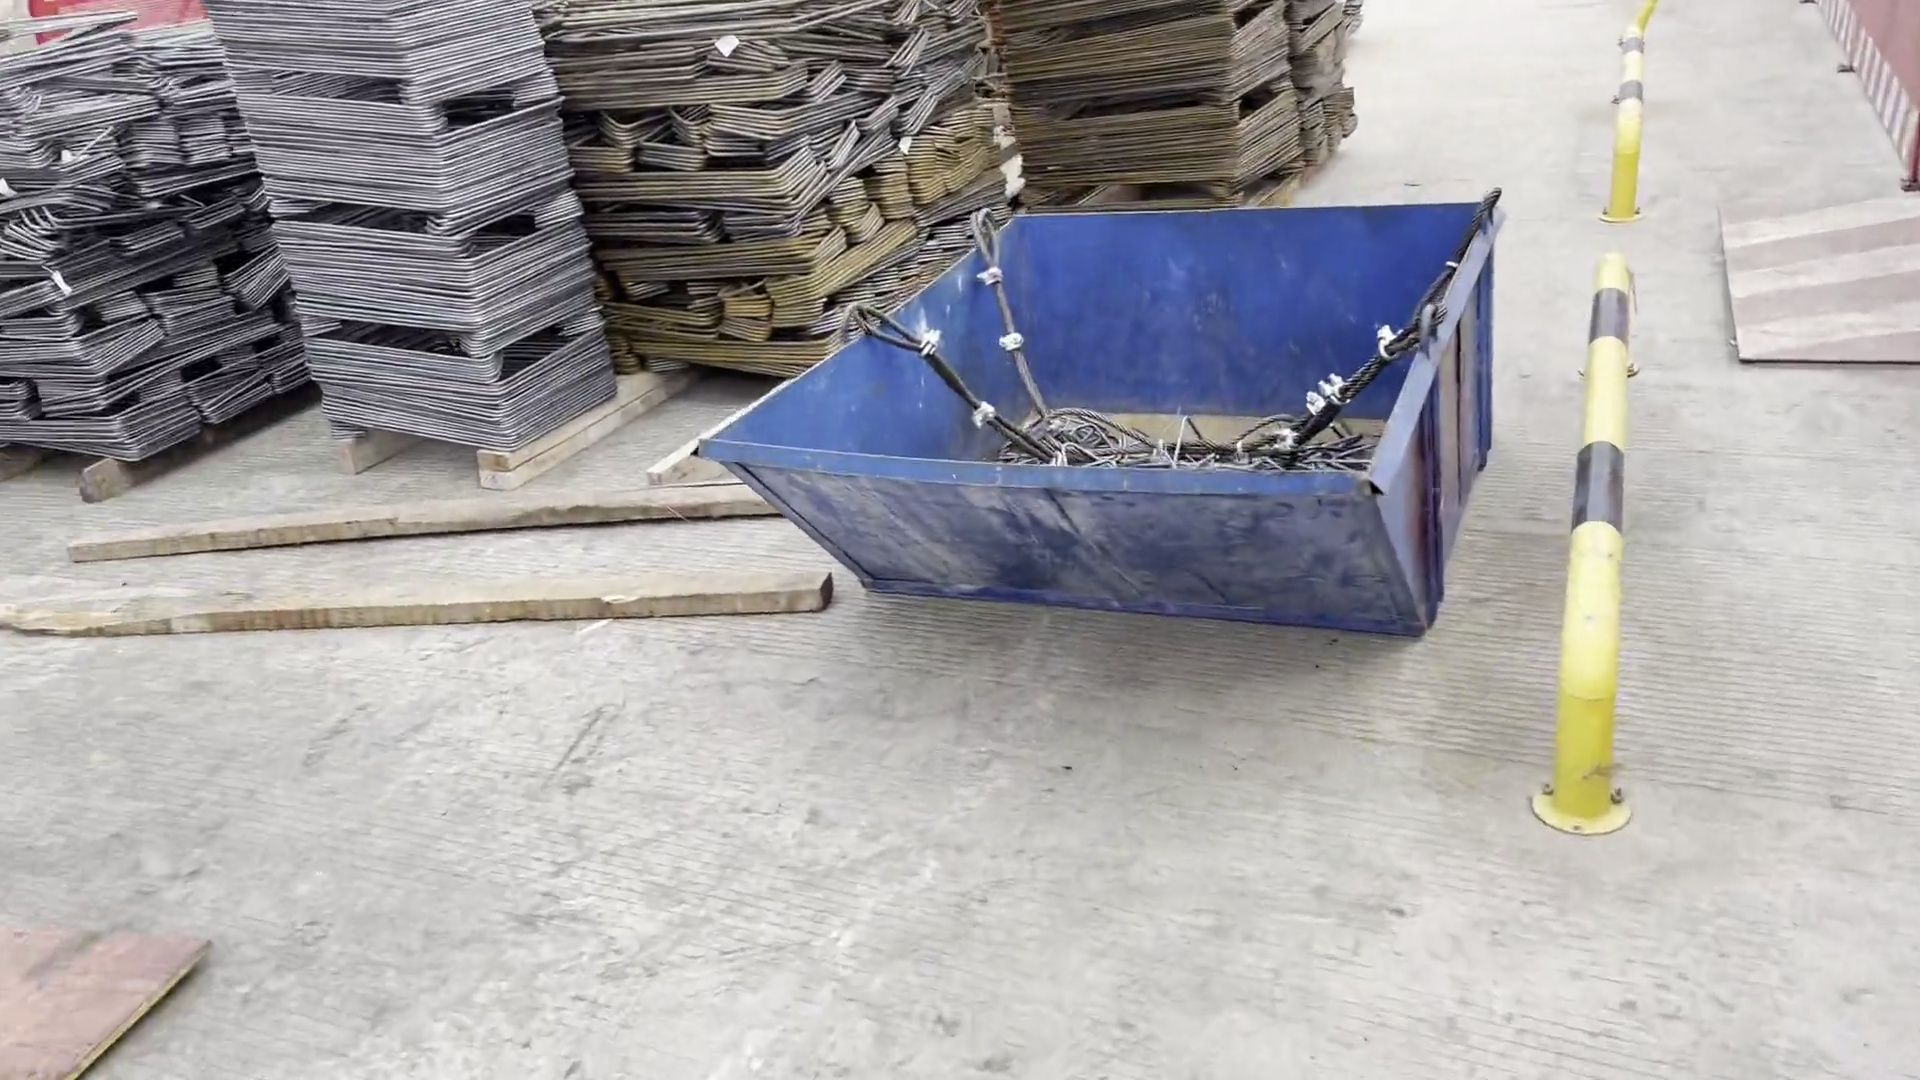fence: (1822, 4, 1920, 181)
hopper: (657, 193, 1535, 676)
